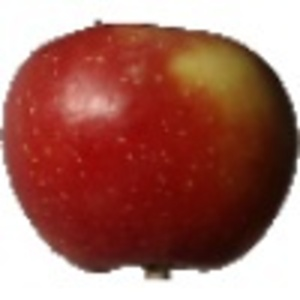maçã braeburn: (2, 20, 300, 274)
